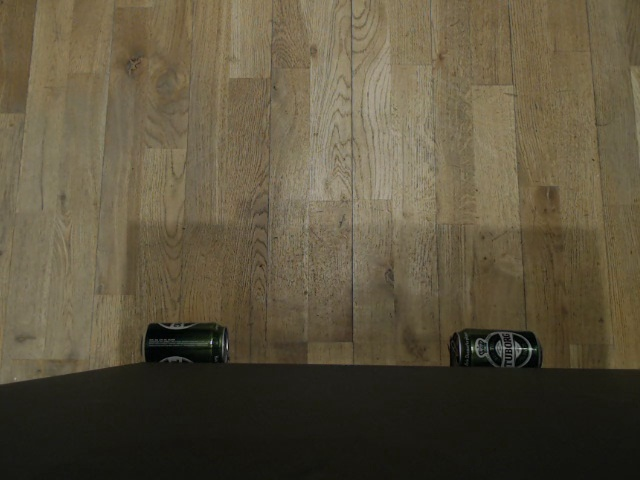beer: (449, 326, 546, 368), (140, 319, 230, 363)
